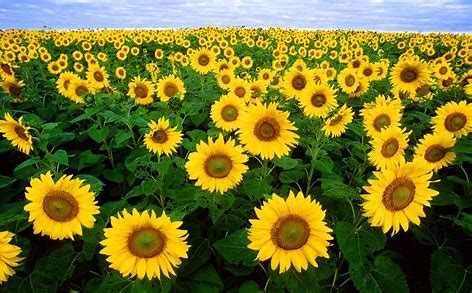inorganic: (2, 30, 463, 290)
